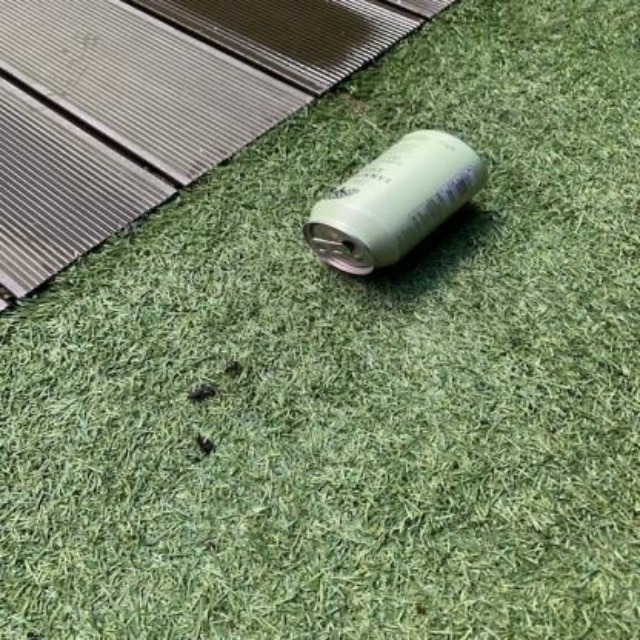trash: (303, 129, 485, 274)
